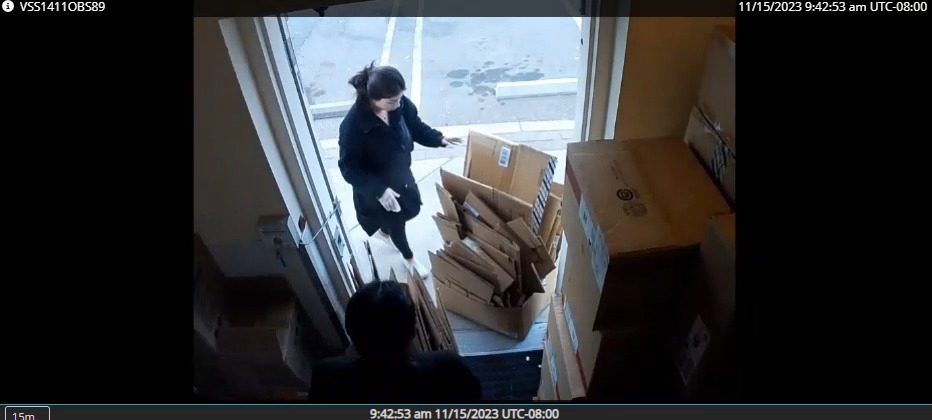gloves: (369, 183, 403, 218), (434, 126, 465, 150)
